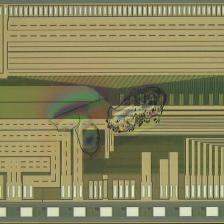PARTICLE: (50, 83, 169, 159)
